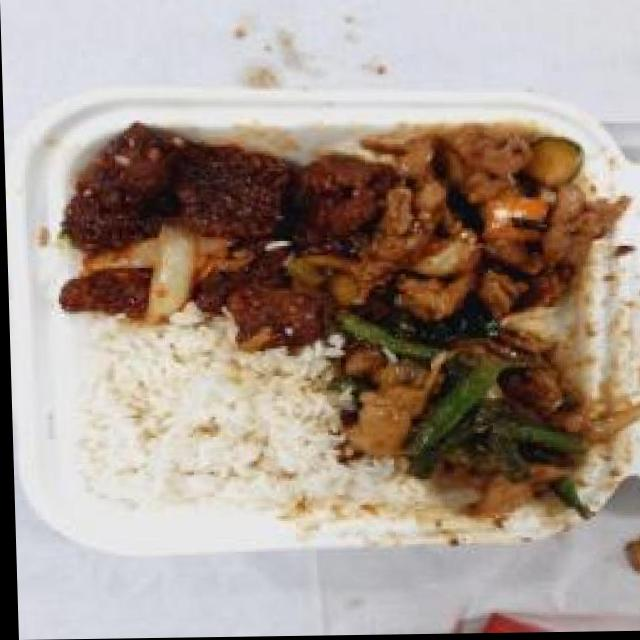Beijing Beef: (51, 123, 369, 334)
Kung Pao Chicken: (333, 118, 616, 336)
String Bean Chicken Breast: (343, 323, 597, 516)
White Steamed Rice: (75, 329, 337, 517)
